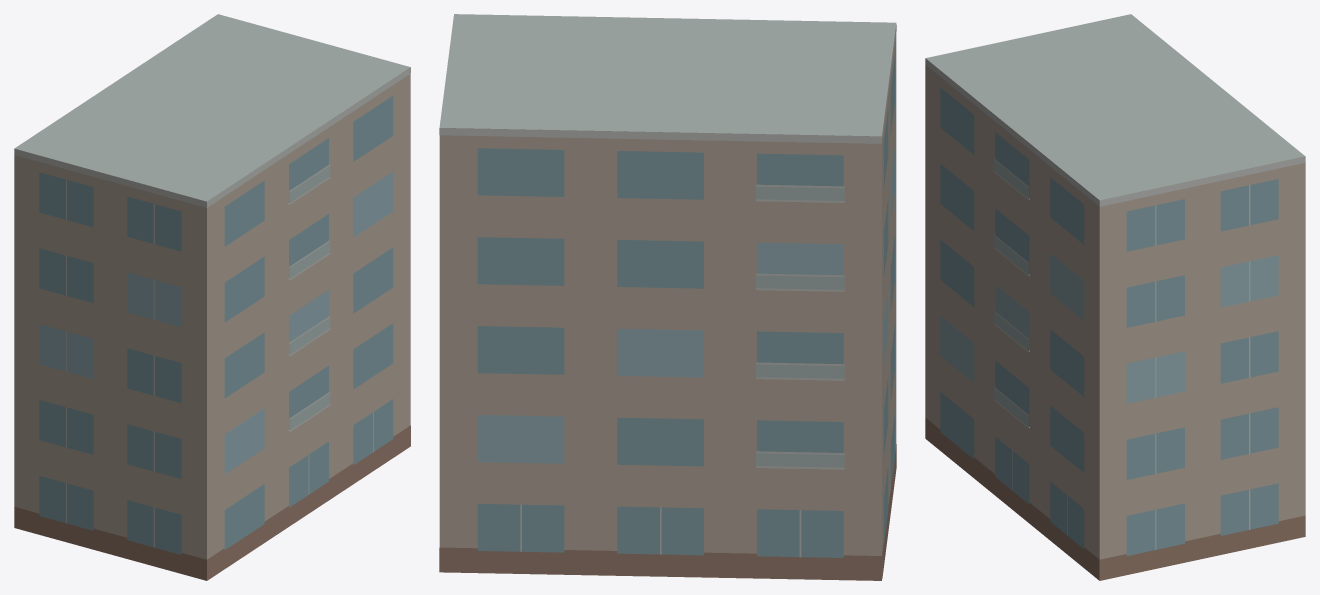
Rendered from survey-upis-32863835.glb.
3 views of the same model, side by side, from view 1: azimuth 30°, elevation 25°; view 2: azimuth 150°, elevation 25°; view 3: azimuth 270°, elevation 25° (orthographic). The views are drawn at different scales.
Visible parts, largest first — view 1: survey-upis-32863835.tmp; view 2: survey-upis-32863835.tmp; view 3: survey-upis-32863835.tmp.
Part boxes in pixels (x1,y1,x2,y2): survey-upis-32863835.tmp: (14, 14, 410, 580); survey-upis-32863835.tmp: (439, 14, 896, 580); survey-upis-32863835.tmp: (925, 14, 1305, 580).
Size of the model in its own units: 15.3 by 14.55 by 13.18.
